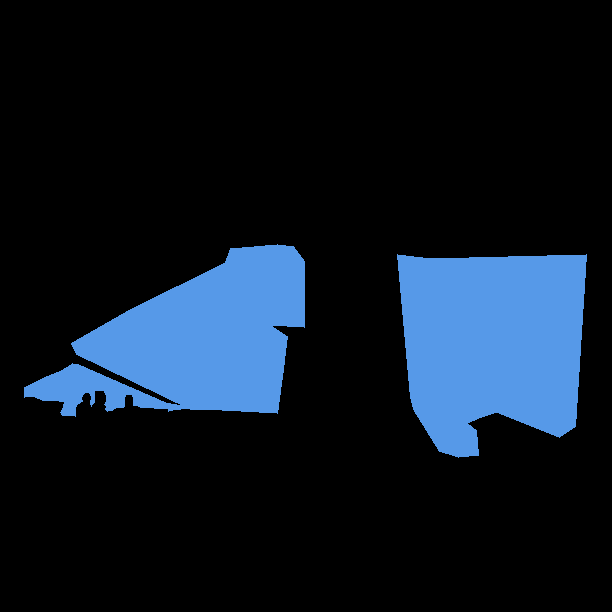Airplane: (71, 244, 587, 458), (24, 363, 189, 416)
